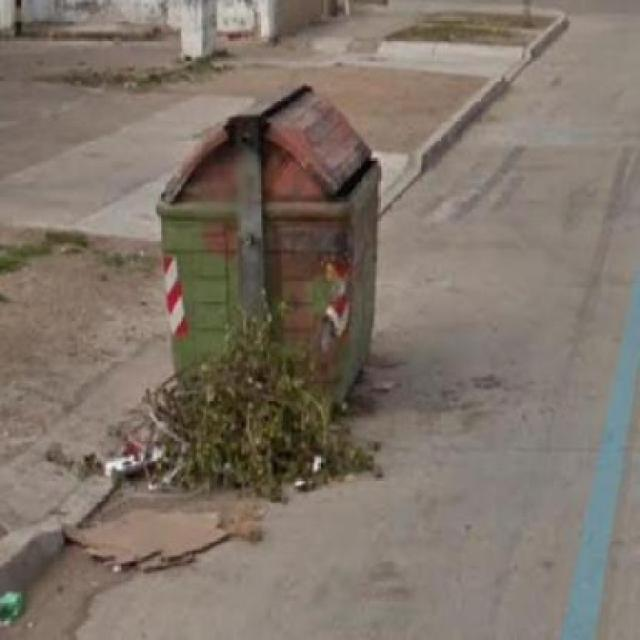garbage: (37, 492, 280, 576), (0, 581, 32, 632)
